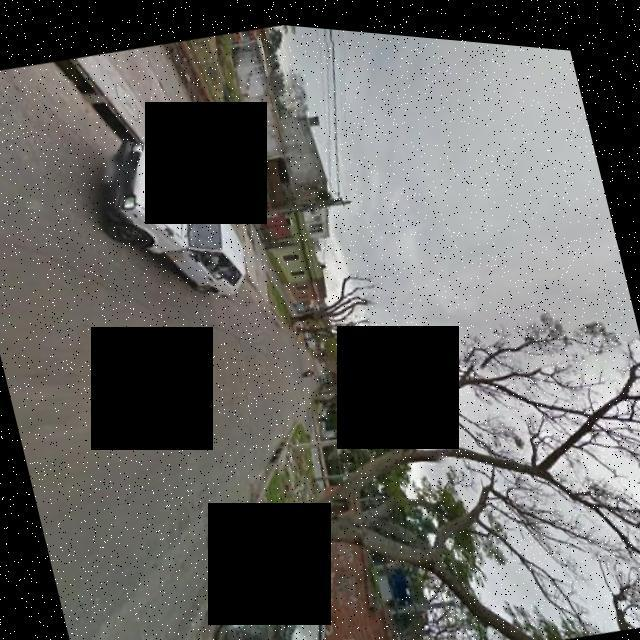bin: (172, 514, 357, 640)
